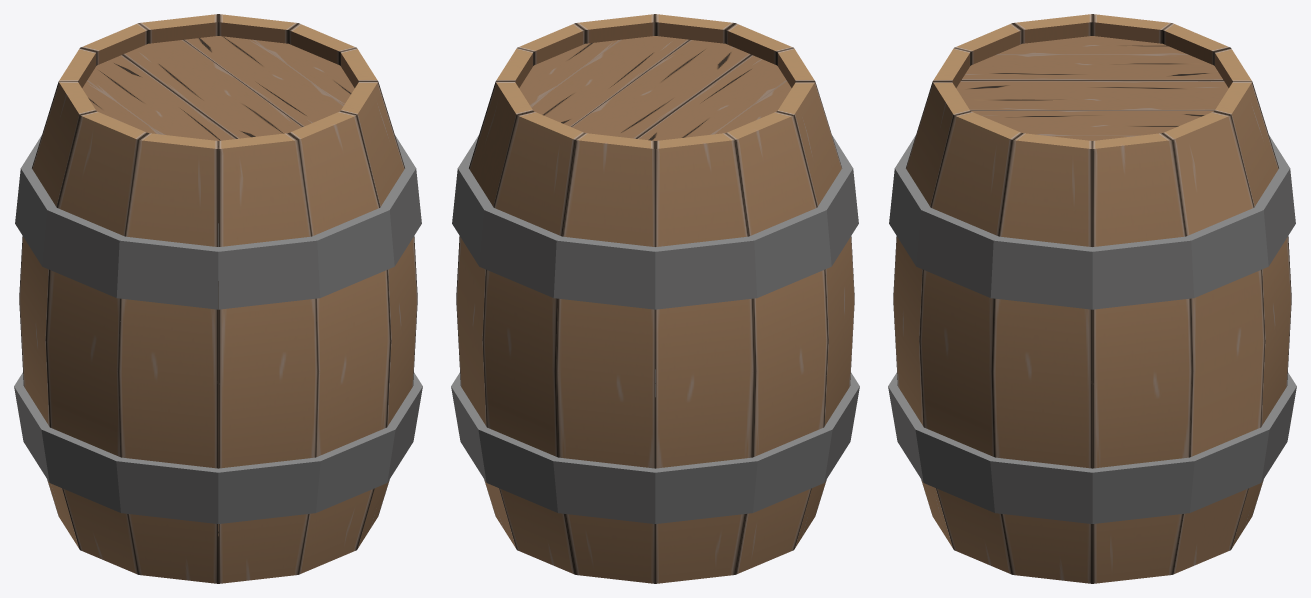
Rendered from BARREL 02.fbx.
3 renders of one model, left to right at view 1: azimuth 30°, elevation 25°; view 2: azimuth 150°, elevation 25°; view 3: azimuth 270°, elevation 25°, orthographic.
Parts seen in each view (by area): view 1: props_barrel_01.015, props_barrel_01.016, props_barrel_01.001, props_barrel_01.014, props_barrel_01.013, props_barrel_01.019, props_barrel_01.002, props_barrel_01.008, props_barrel_01.009, props_barrel_01.010, props_barrel_01.011, props_barrel_01.007 (+1 smaller); view 2: props_barrel_01.011, props_barrel_01.012, props_barrel_01.013, props_barrel_01.010, props_barrel_01.019, props_barrel_01.014, props_barrel_01.017, props_barrel_01.009, props_barrel_01.008, props_barrel_01.001, props_barrel_01.002, props_barrel_01.007 (+2 smaller); view 3: props_barrel_01.007, props_barrel_01.008, props_barrel_01.002, props_barrel_01.017, props_barrel_01.019, props_barrel_01.001, props_barrel_01.010, props_barrel_01.009, props_barrel_01.013, props_barrel_01.014, props_barrel_01.012, props_barrel_01.015 (+2 smaller).
Boxes of the visible parts, <box> form: props_barrel_01.015: <box>116,133,218,583</box>; props_barrel_01.016: <box>218,133,320,583</box>; props_barrel_01.001: <box>289,111,395,574</box>; props_barrel_01.014: <box>41,111,147,574</box>; props_barrel_01.013: <box>14,54,236,549</box>; props_barrel_01.019: <box>123,36,352,531</box>; props_barrel_01.002: <box>340,81,422,549</box>; props_barrel_01.008: <box>288,23,356,90</box>; props_barrel_01.009: <box>218,14,297,43</box>; props_barrel_01.010: <box>139,14,218,43</box>; props_barrel_01.011: <box>80,23,148,65</box>; props_barrel_01.007: <box>340,48,422,386</box>; props_barrel_01.011: <box>553,133,655,583</box>; props_barrel_01.012: <box>655,133,757,583</box>; props_barrel_01.013: <box>637,54,832,574</box>; props_barrel_01.010: <box>478,111,584,574</box>; props_barrel_01.019: <box>521,36,750,138</box>; props_barrel_01.014: <box>777,81,859,549</box>; props_barrel_01.017: <box>451,168,486,482</box>; props_barrel_01.009: <box>451,81,533,549</box>; props_barrel_01.008: <box>451,44,584,386</box>; props_barrel_01.001: <box>655,14,734,385</box>; props_barrel_01.002: <box>576,14,655,43</box>; props_barrel_01.007: <box>517,23,585,65</box>; props_barrel_01.007: <box>990,133,1092,583</box>; props_barrel_01.008: <box>1092,133,1194,583</box>; props_barrel_01.002: <box>915,111,1021,574</box>; props_barrel_01.017: <box>1190,210,1269,512</box>; props_barrel_01.019: <box>956,80,1228,140</box>; props_barrel_01.001: <box>888,81,970,549</box>; props_barrel_01.010: <box>1214,81,1296,549</box>; props_barrel_01.009: <box>1163,111,1268,574</box>; props_barrel_01.013: <box>961,14,1223,80</box>; props_barrel_01.014: <box>1013,14,1092,43</box>; props_barrel_01.012: <box>1162,23,1230,65</box>; props_barrel_01.015: <box>954,23,1022,65</box>.
Size of the model in its own units: 86.95 by 102 by 86.95.
Materials: 1 (1 with a texture image).
